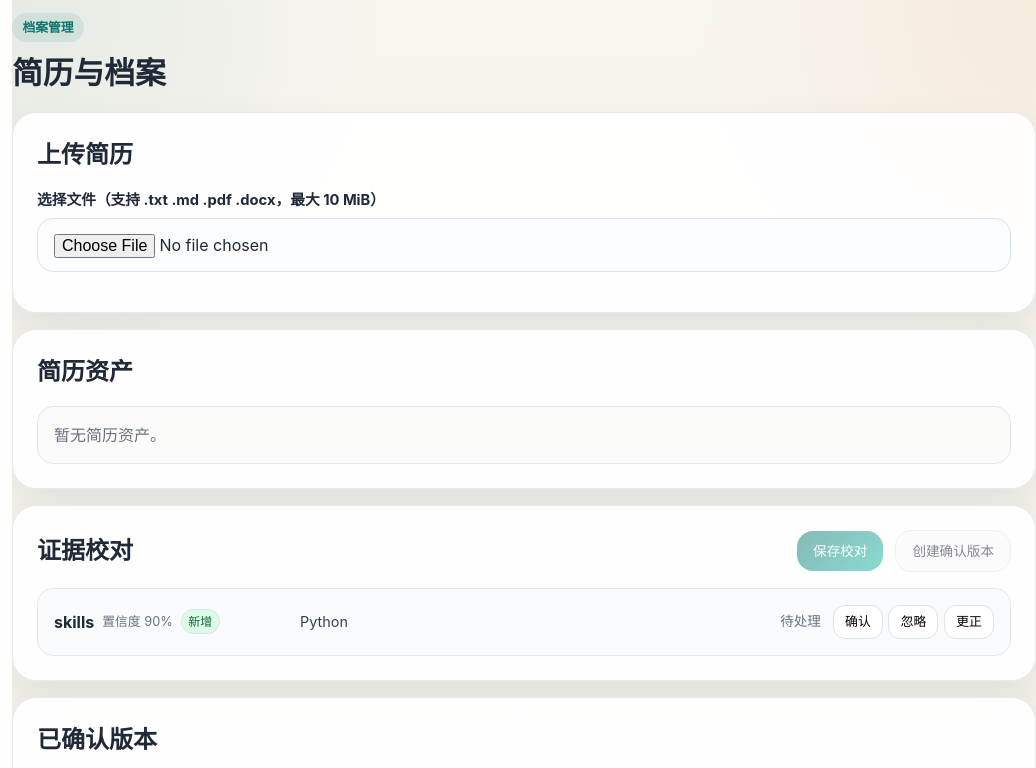
Test: ProfileWorkspace › requires persisted decisions for every candidate before creating a version
Expected: the button with test id "create-version" is disabled, x1=895 y1=530 x2=1011 y2=572
Click the button with test id "decision-confirm-evidence-1" at (858, 622), box x1=833 y1=605 x2=883 y2=639
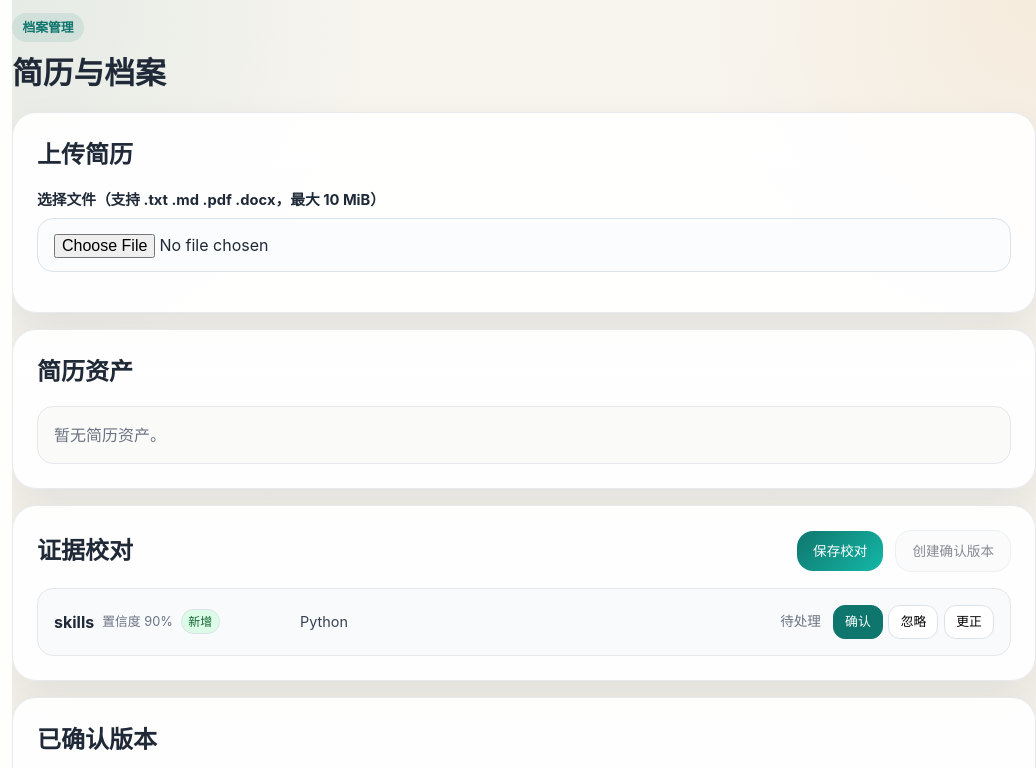
Expected: the button with test id "create-version" is disabled, x1=895 y1=530 x2=1011 y2=572
Click the button with test id "save-decisions" at (840, 551), box x1=797 y1=531 x2=884 y2=571
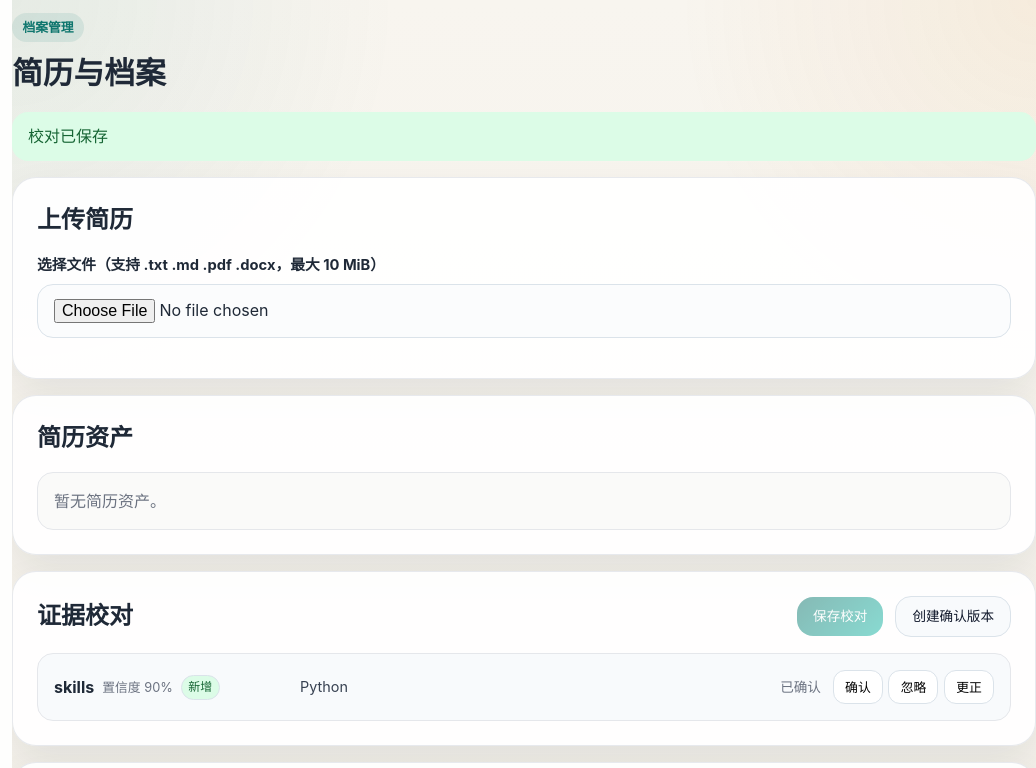
Result: the button with test id "create-version" is enabled at x1=895 y1=596 x2=1011 y2=637
